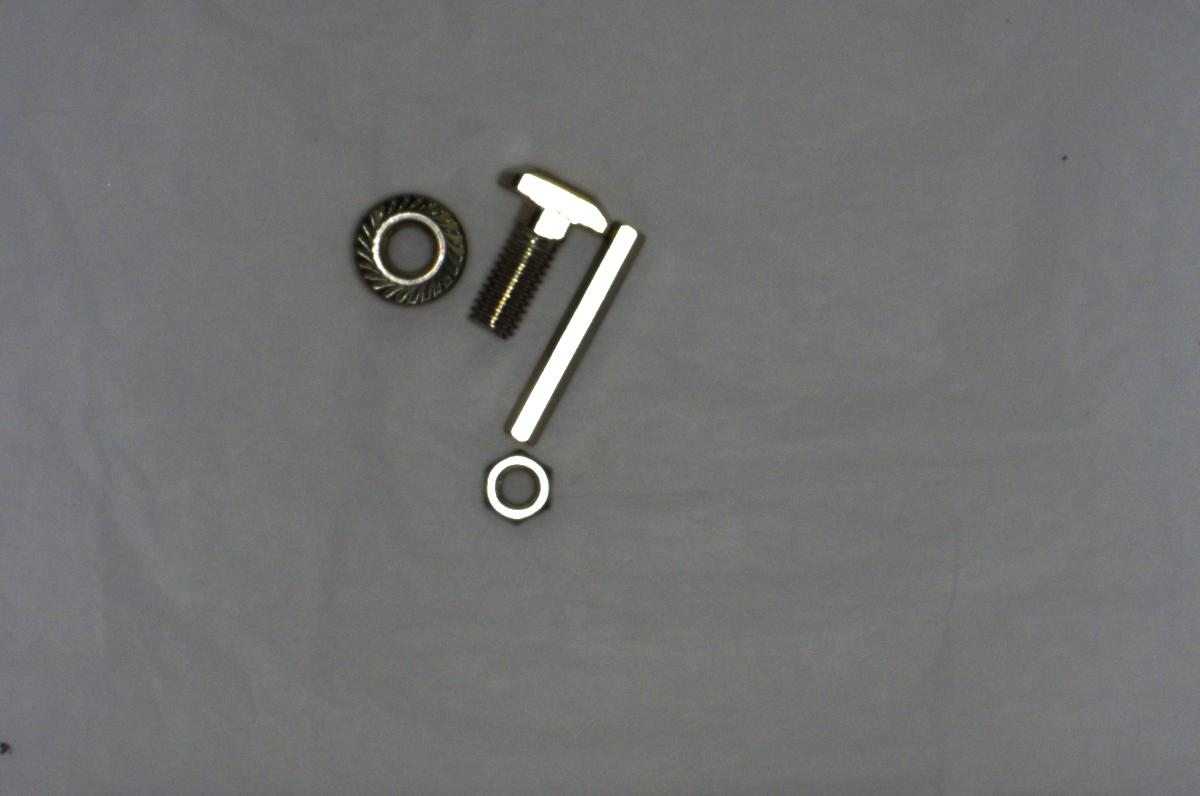Double hexagonal column: (502, 220, 653, 443)
Flange nut: (338, 187, 475, 318)
Hexagon nut: (475, 446, 555, 529)
T-shaped screw: (471, 166, 607, 340)
